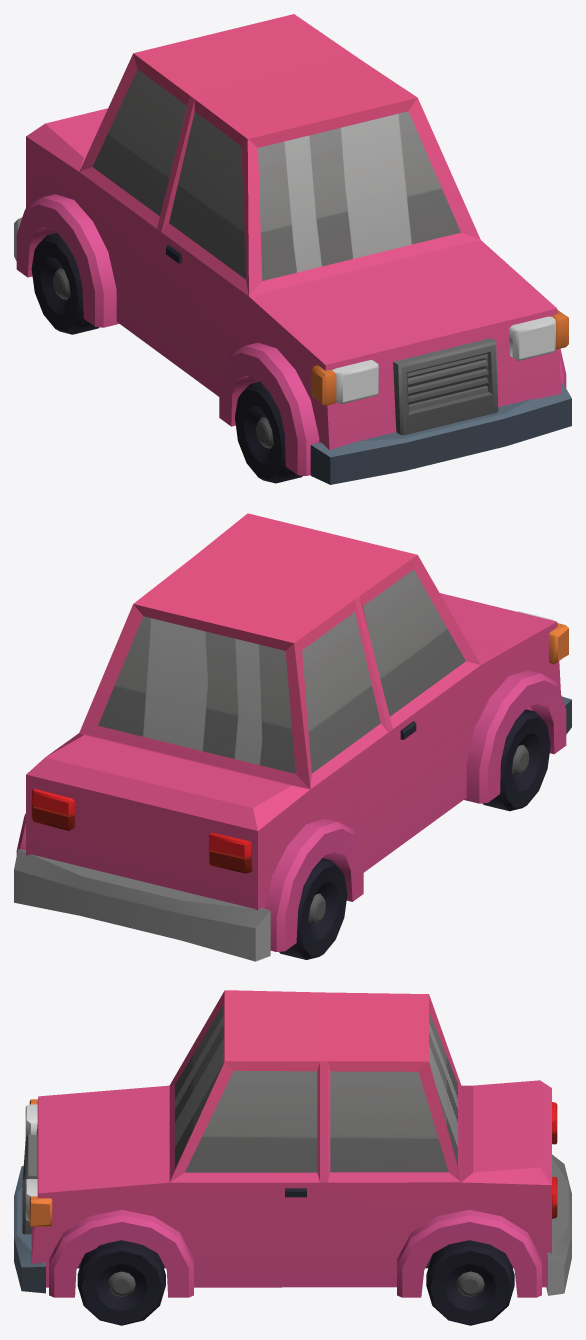
Rendered from Car_2_15.glb.
3 views of the same model, one above another, from view 1: azimuth 30°, elevation 25°; view 2: azimuth 150°, elevation 25°; view 3: azimuth 270°, elevation 25° (orthographic). The views are drawn at different scales.
Visible parts, largest first — view 1: Car_2_15, W_BR, W_FR; view 2: Car_2_15, W_FR, W_BR; view 3: Car_2_15, W_BL, W_FL.
Part boxes in pixels (left/top/right/bottom): Car_2_15: left=14, top=14, right=571, bottom=484; W_BR: left=31, top=232, right=99, bottom=334; W_FR: left=235, top=381, right=302, bottom=483; Car_2_15: left=14, top=513, right=571, bottom=961; W_FR: left=482, top=709, right=550, bottom=811; W_BR: left=279, top=858, right=347, bottom=959; Car_2_15: left=14, top=990, right=571, bottom=1297; W_BL: left=426, top=1240, right=514, bottom=1325; W_FL: left=77, top=1240, right=165, bottom=1325.
Bounding box in the file's own units: 1.09 × 1.11 × 2.28.
5 materials, 5 textured.
